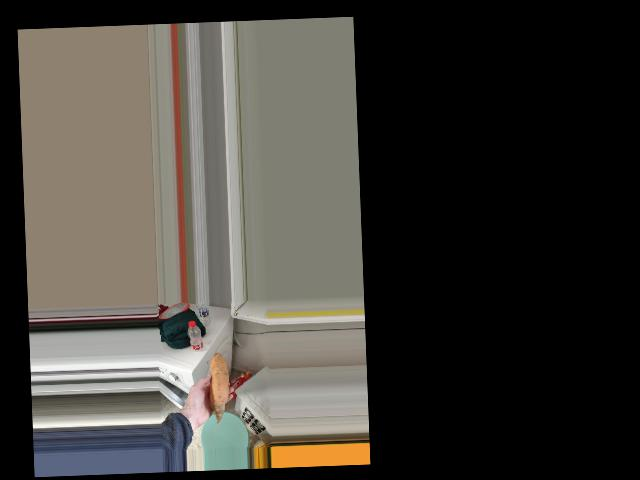sweet_potato: (203, 361, 227, 409)
